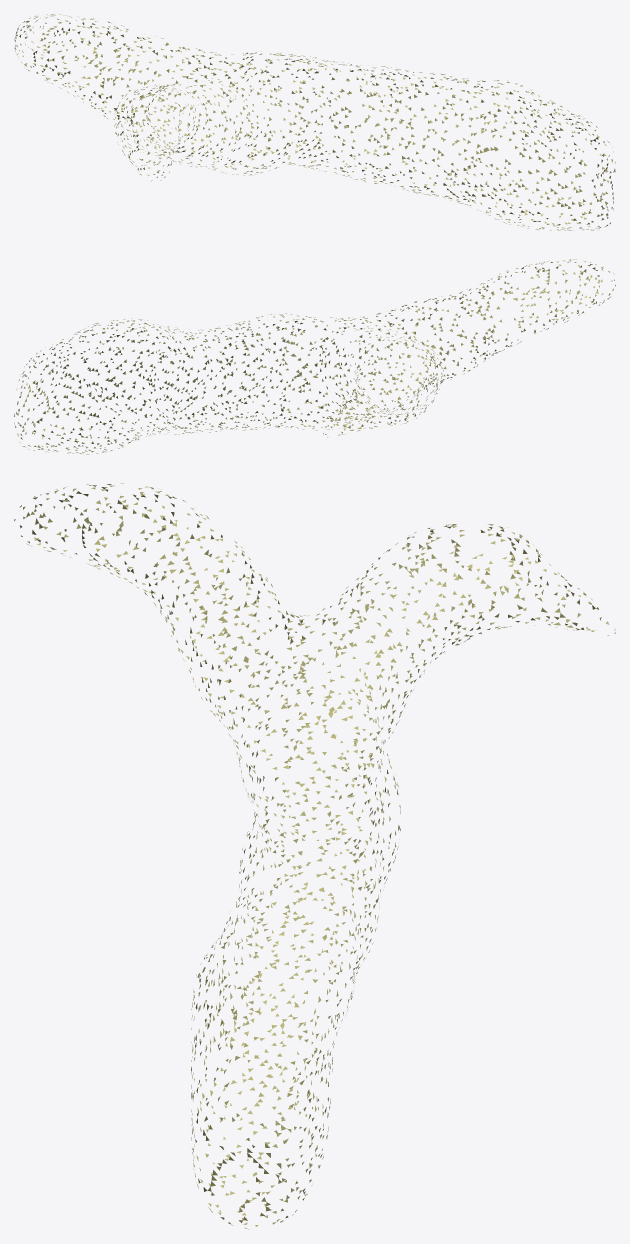
File: morph_009.glb
The picture shows the model from 3 angles, top to bottom: view 1: azimuth 30°, elevation 25°; view 2: azimuth 150°, elevation 25°; view 3: azimuth 270°, elevation 25°; orthographic projection. The views are drawn at different scales.
Size of the model in its own units: 113 by 55.55 by 76.35.
